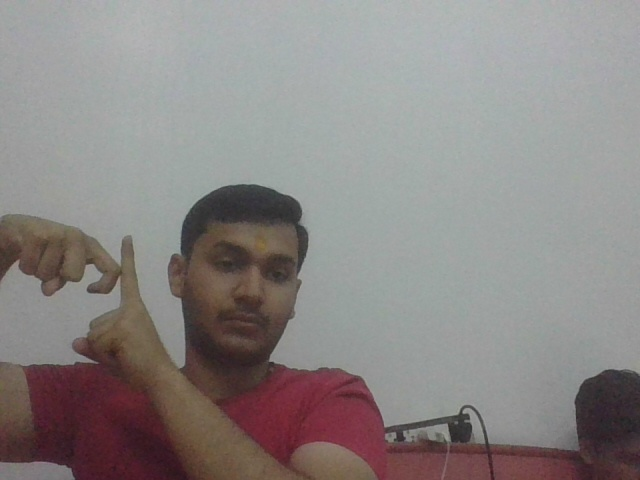K: (69, 225, 148, 321)
